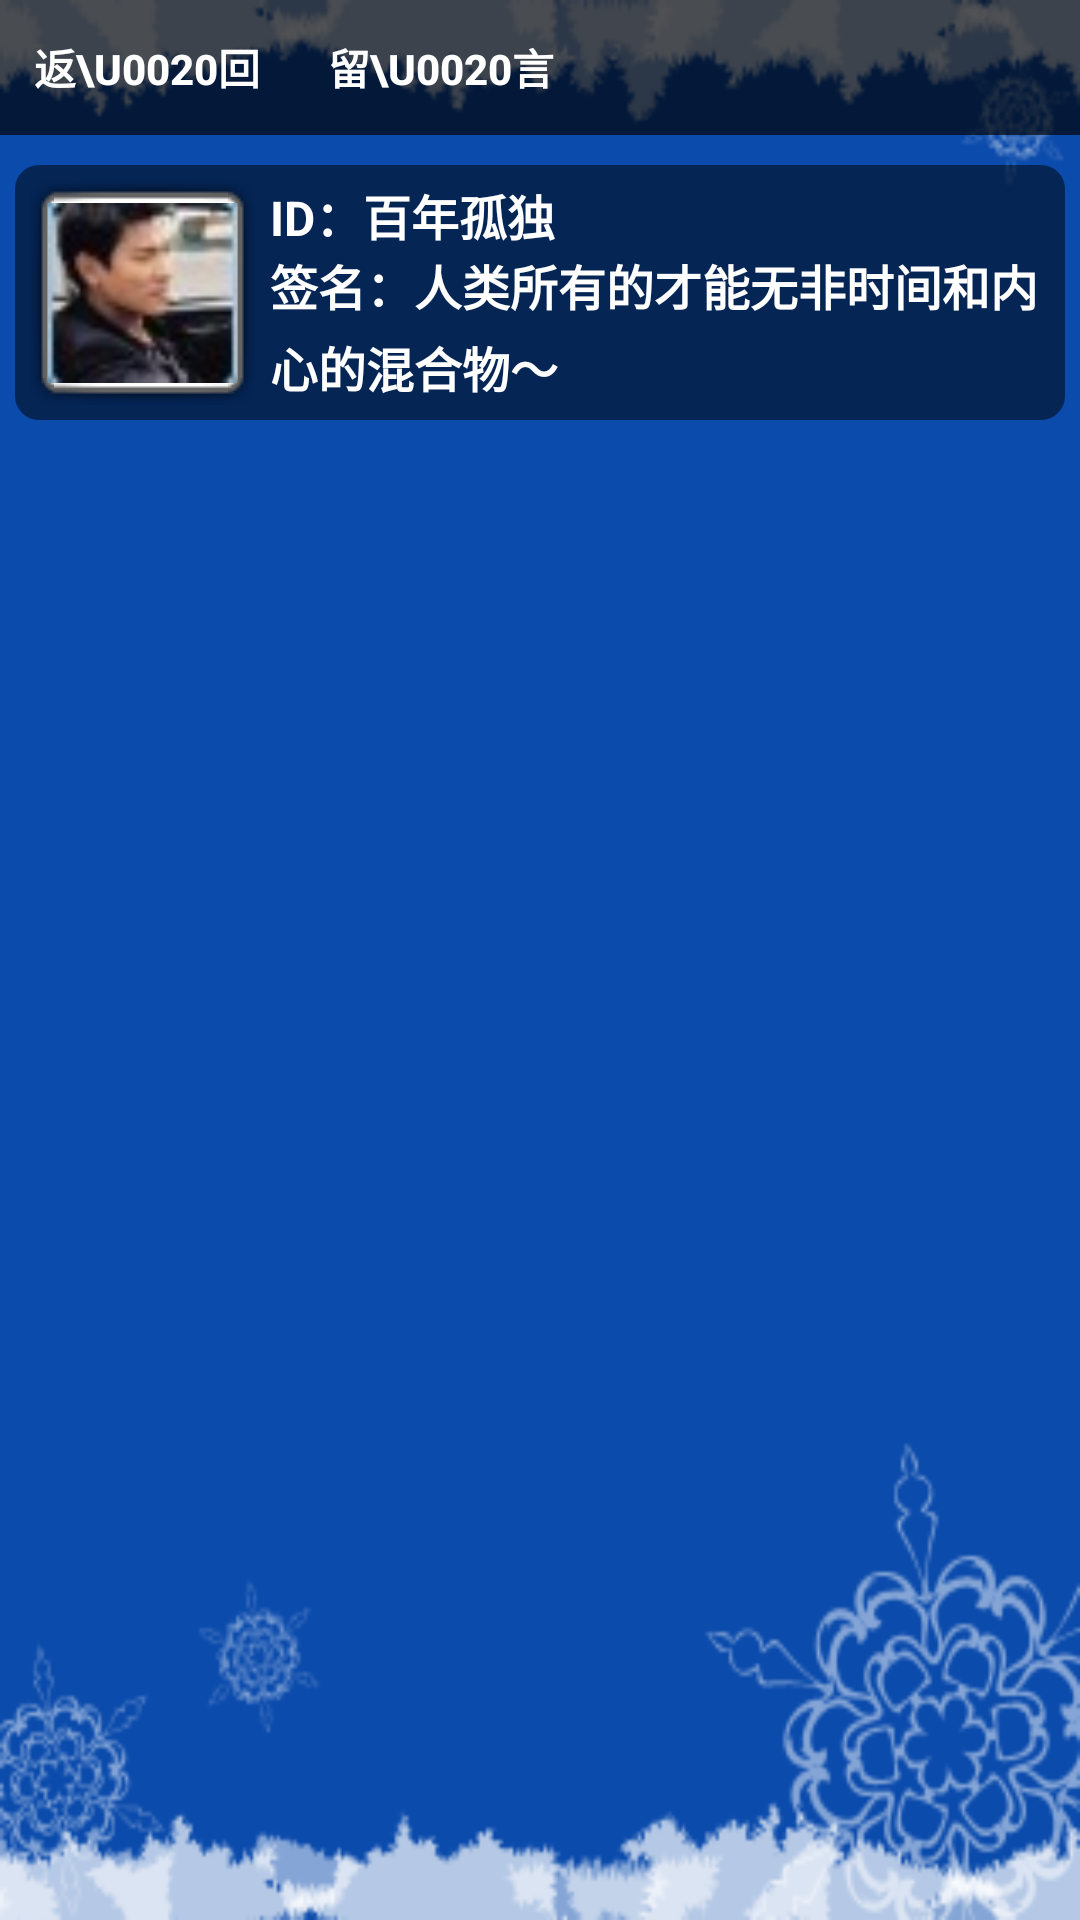

Screen size 1080x1920. Icon name, then its center in pixels as [x,y]:
head: [142,292]
